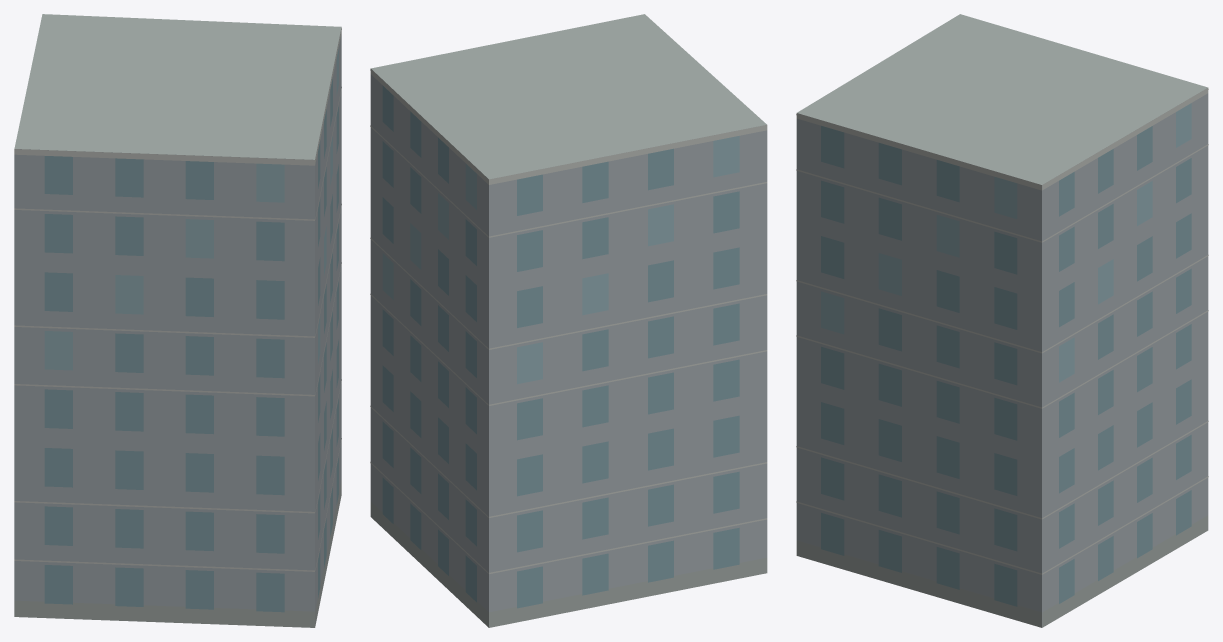
Rendered from survey-upis-32741733.glb.
3 renders of one model, left to right at view 1: azimuth 30°, elevation 25°; view 2: azimuth 150°, elevation 25°; view 3: azimuth 270°, elevation 25°, orthographic. The views are drawn at different scales.
Visible parts, largest first — view 1: survey-upis-32741733.tmp; view 2: survey-upis-32741733.tmp; view 3: survey-upis-32741733.tmp.
Part boxes in pixels (x1,y1,x2,y2): survey-upis-32741733.tmp: (14, 14, 341, 627); survey-upis-32741733.tmp: (370, 14, 767, 627); survey-upis-32741733.tmp: (796, 14, 1208, 627).
Size of the model in its own units: 16.17 by 19.5 by 16.45.
